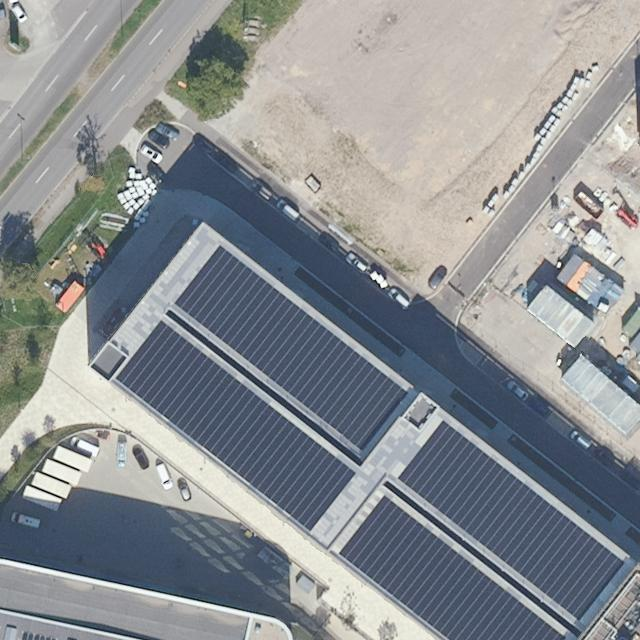PV: (110, 316, 360, 537), (171, 242, 413, 457), (395, 416, 629, 625), (331, 492, 573, 640)
